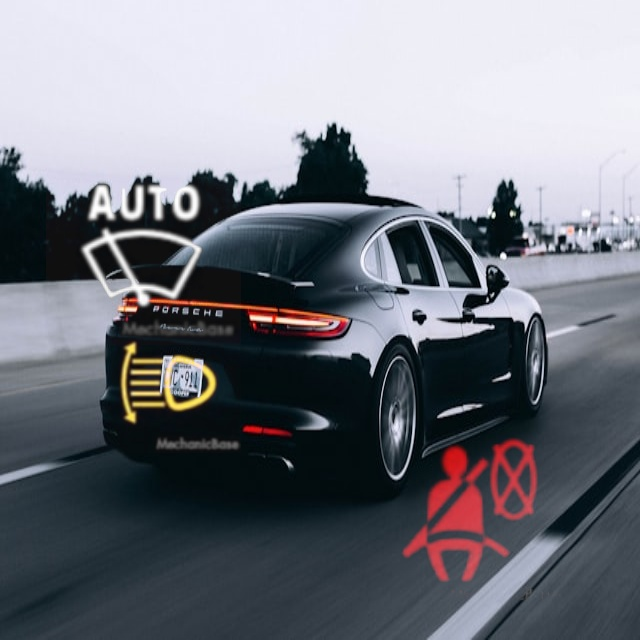symbol: (372, 413, 569, 610), (46, 150, 241, 345), (98, 310, 241, 453)
